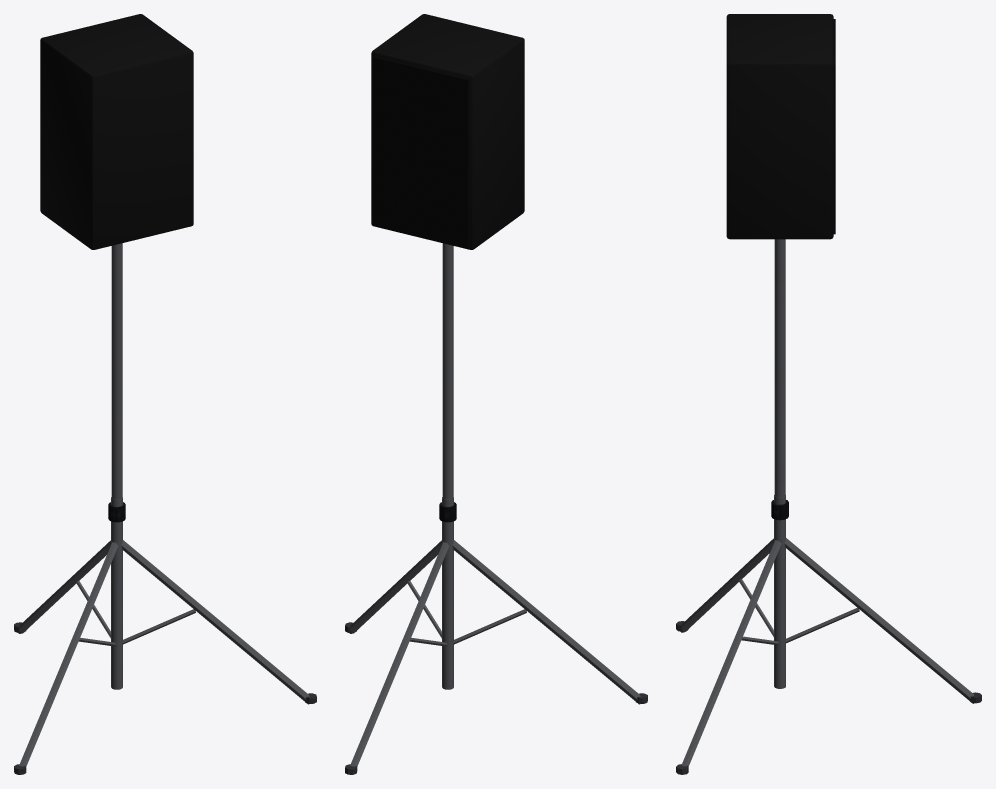
The model's file is pa_on_stand.gltf.
The picture shows the model from 3 angles, left to right: view 1: azimuth 30°, elevation 25°; view 2: azimuth 150°, elevation 25°; view 3: azimuth 270°, elevation 25°; orthographic projection.
Visible parts, largest first — view 1: pa_on_stand; view 2: pa_on_stand; view 3: pa_on_stand.
Boxes of the visible parts, bbox=[...] form: pa_on_stand: bbox=[14, 14, 316, 774]; pa_on_stand: bbox=[345, 14, 647, 774]; pa_on_stand: bbox=[676, 14, 981, 774].
Bounding box in the file's own units: 1.11 × 2.33 × 0.97.
5 materials, 5 textured.
